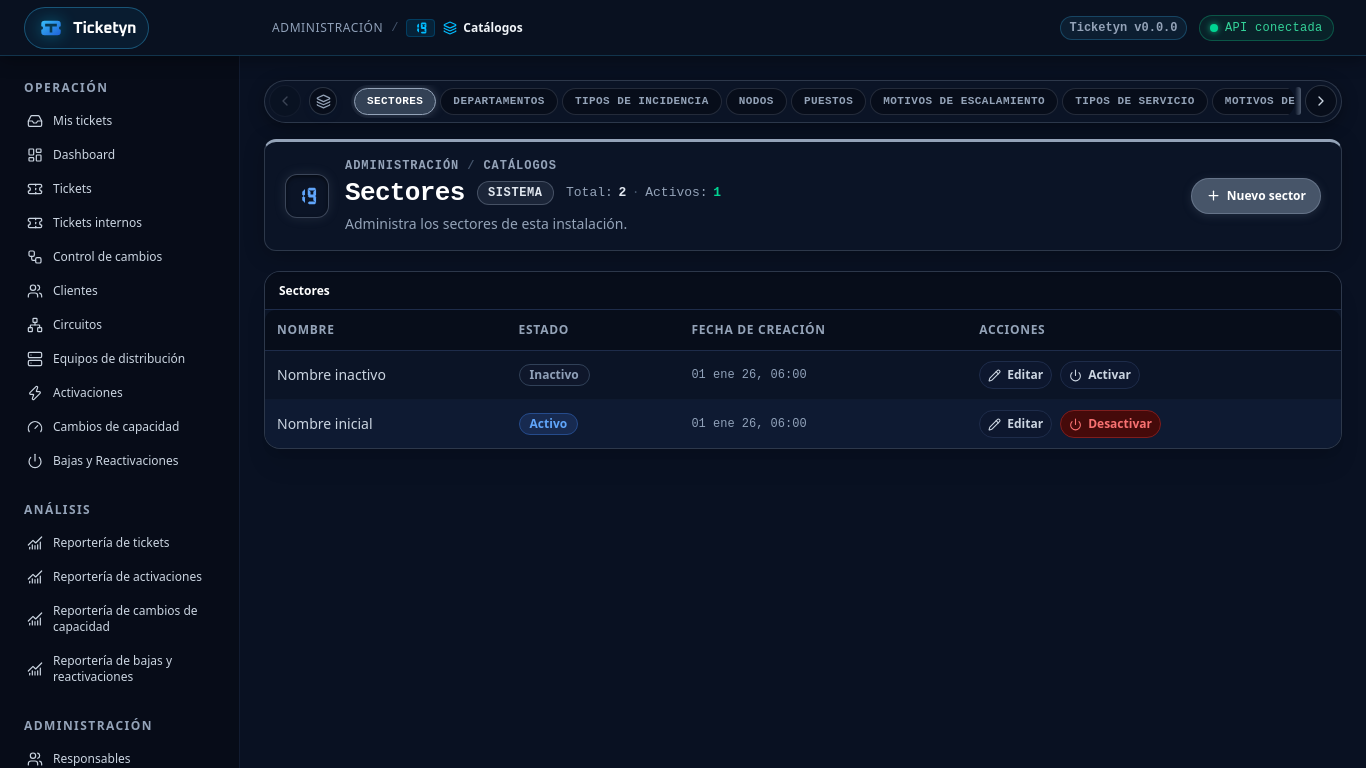
Test: administración de catálogos › sectors lista activos/inactivos, crea, edita, desactiva y activa
Expected: the table "Sectores" is shown, [265, 272, 1341, 448]
Expected: the heading "Sectores" is shown, [345, 176, 465, 210]
Click the button "Nuevo sector".
click(1256, 196)  # box [1191, 178, 1321, 214]
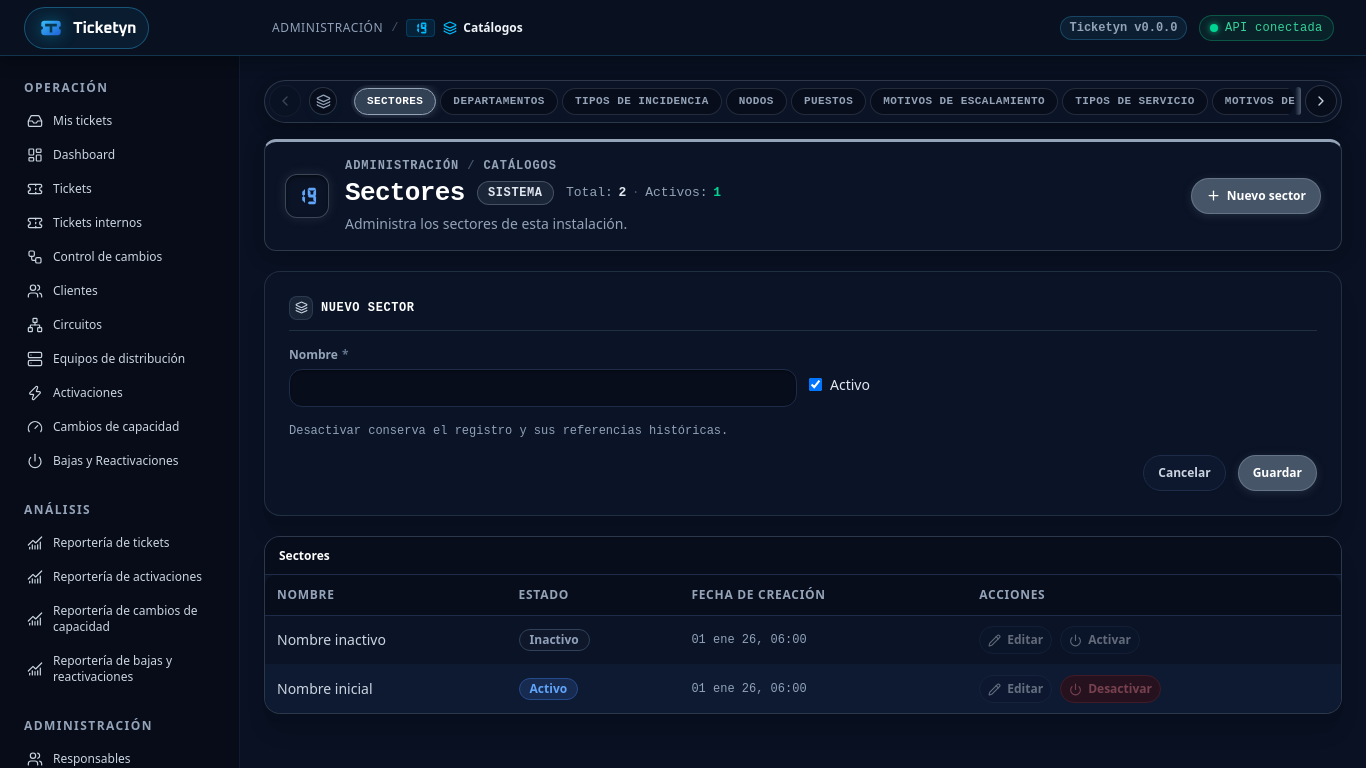
Type "Nuevo registro" into the field labelled "Nombre*".
click(543, 388); type("Nuevo registro")  # box [289, 369, 797, 407]
Click the button "Guardar".
click(1277, 473)  # box [1238, 455, 1317, 491]
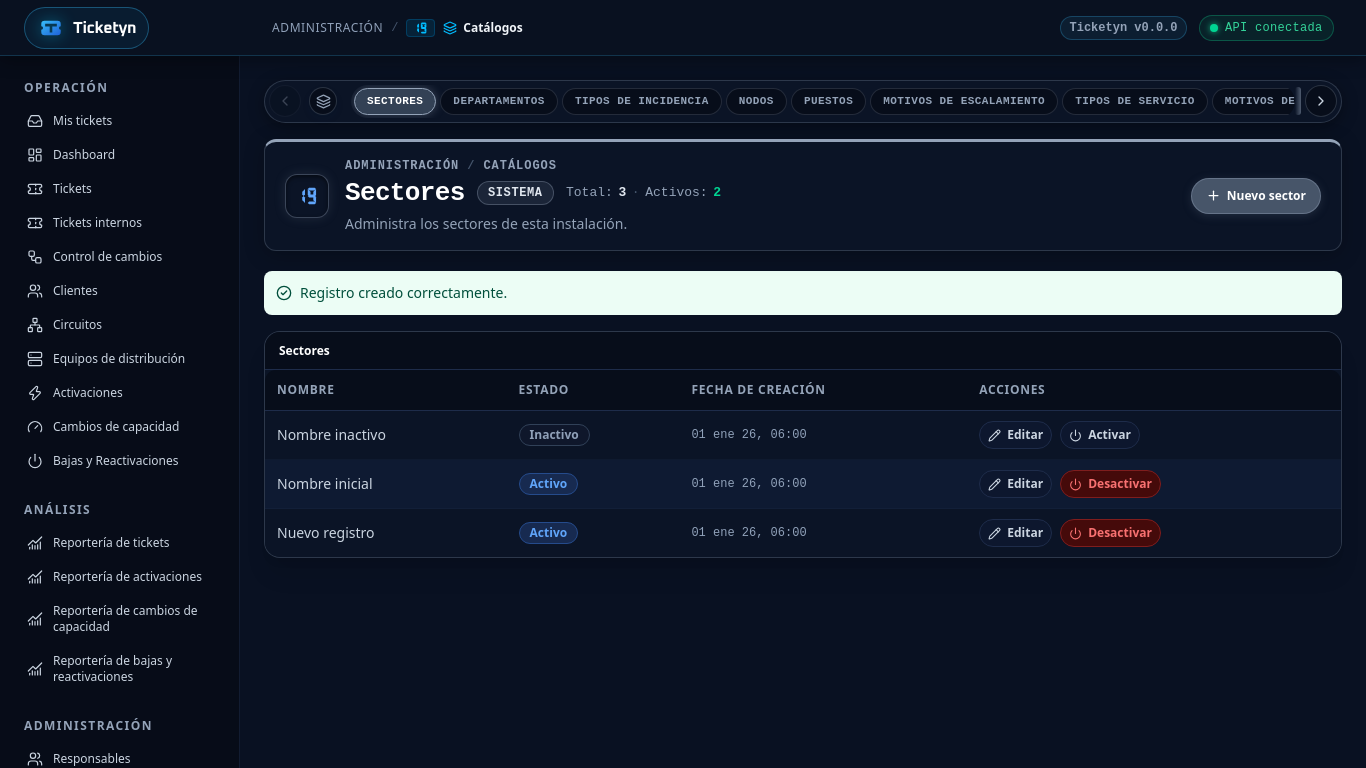
Result: the text "Registro creado correctamente." is shown at [300, 283, 507, 303]
Click the button "Editar" in the row of "Nombre inicial".
click(1016, 484)  # box [979, 470, 1052, 498]
(page scrolled)
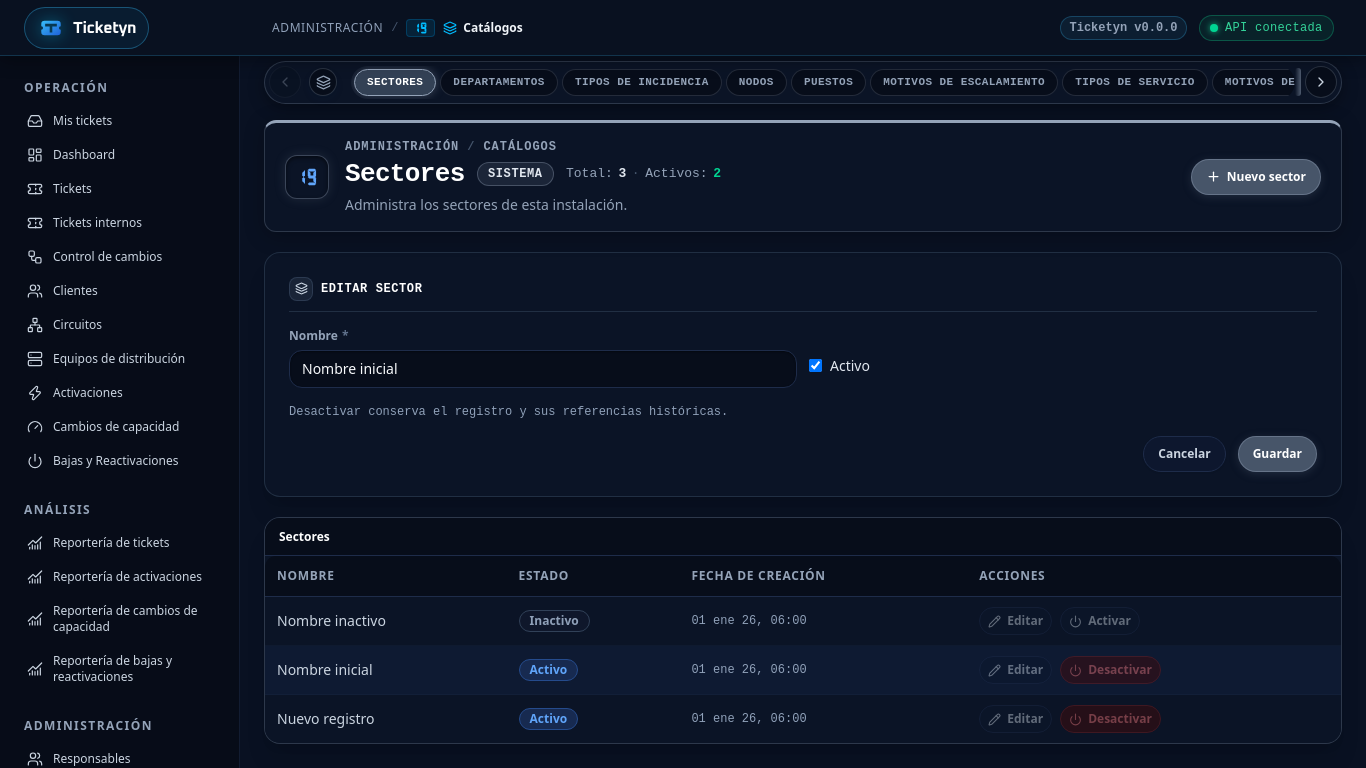
Replace the text in the field labelled "Nombre*" with "Corregido" at (543, 369), box [289, 350, 797, 388]
Click the button "Guardar".
click(1277, 454)  # box [1238, 436, 1317, 472]
(page scrolled)
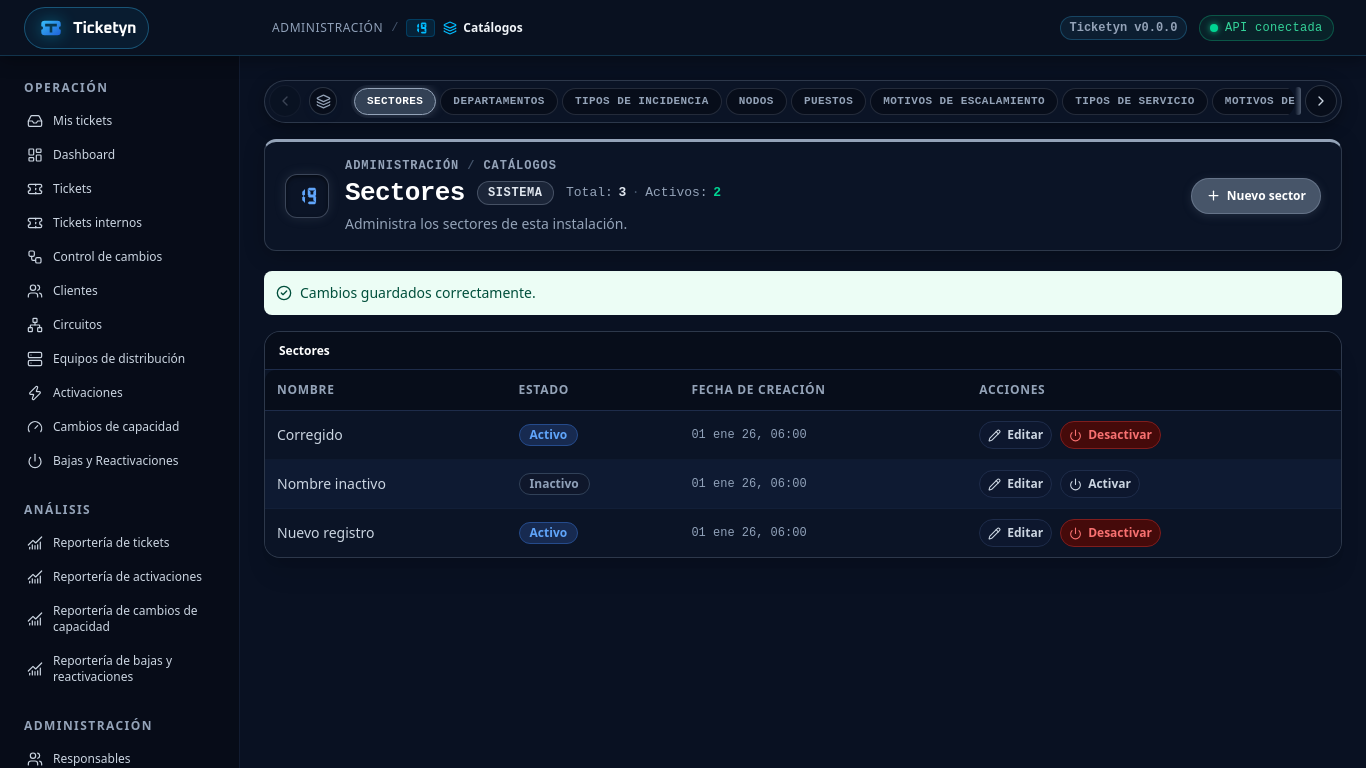
Result: the text "Cambios guardados correctamente." is shown at [300, 283, 536, 303]
Click the button "Desactivar" in the row of "Corregido".
click(1111, 435)  # box [1060, 421, 1161, 449]
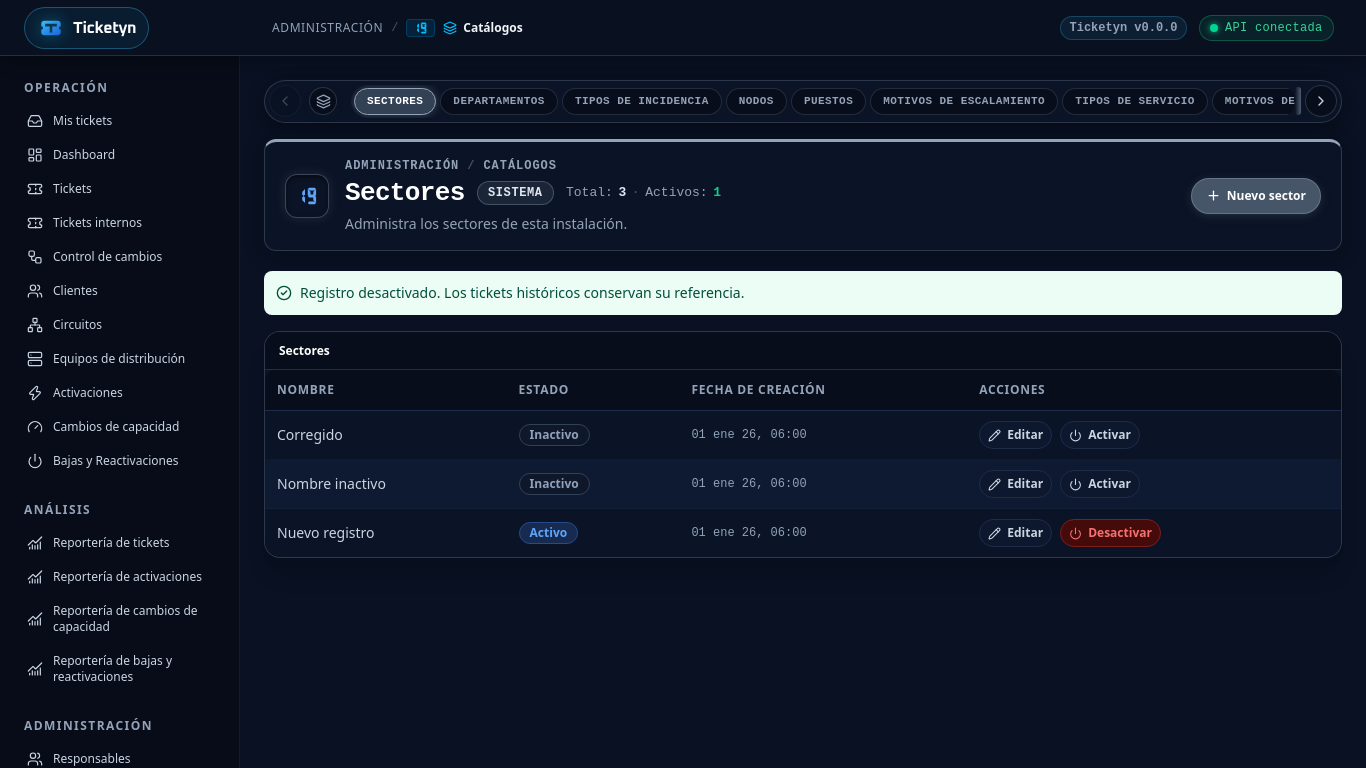
Result: the text "Registro desactivado. Los tickets históricos conservan su referencia." is shown at [300, 283, 744, 303]
Click the button "Activar" in the row of "Corregido".
click(1100, 435)  # box [1060, 421, 1140, 449]
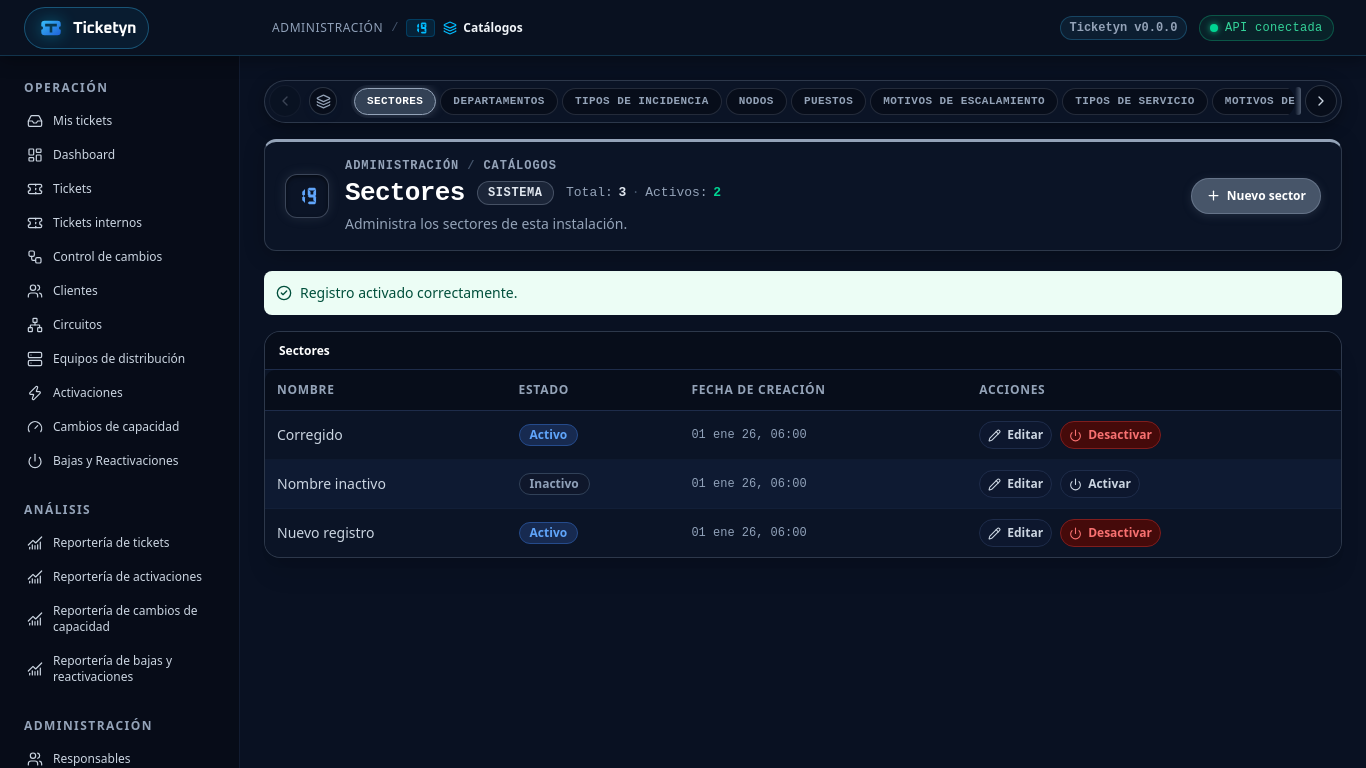
Result: the text "Registro activado correctamente." is shown at [300, 283, 518, 303]
